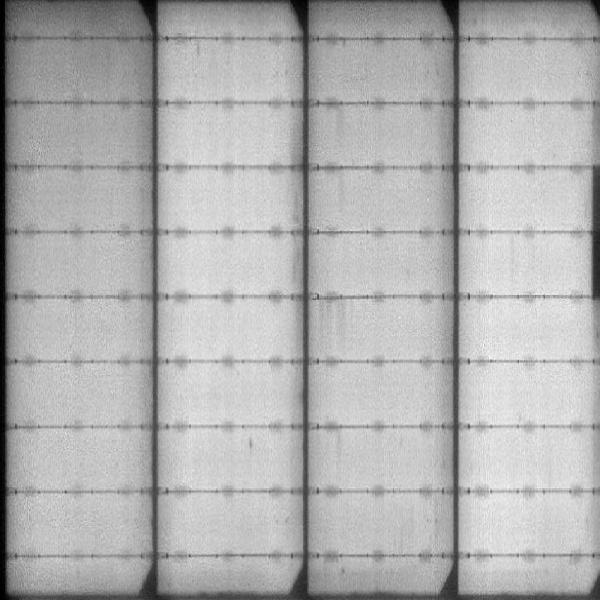black_border: (587, 160, 600, 310)
